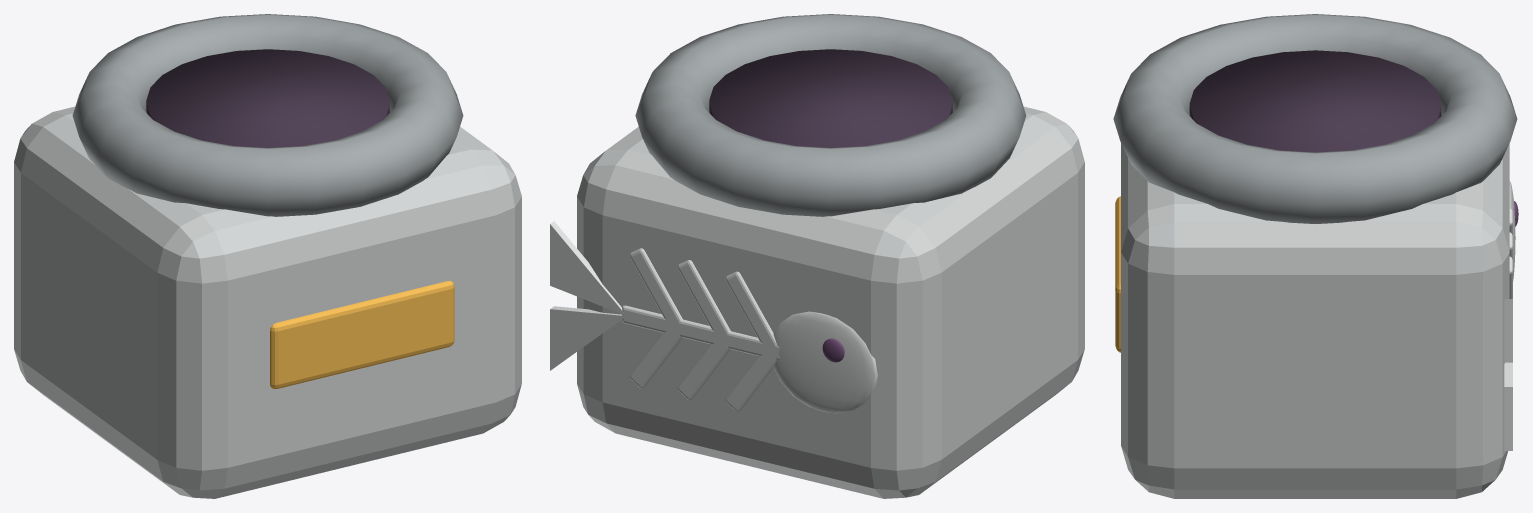
The model's file is TrashBin.fbx.
The picture shows the model from 3 angles, left to right: view 1: azimuth 30°, elevation 25°; view 2: azimuth 150°, elevation 25°; view 3: azimuth 270°, elevation 25°; orthographic projection. The views are drawn at different scales.
Visible parts, largest first — view 1: MAT_Steel Geometry.006, MAT_SteelDark Geometry.006, MAT_DeepInset Geometry.002, MAT_Ochre Geometry.001; view 2: MAT_Steel Geometry.006, MAT_SteelDark Geometry.006, MAT_Cream Geometry.001, MAT_DeepInset Geometry.002; view 3: MAT_Steel Geometry.006, MAT_SteelDark Geometry.006, MAT_DeepInset Geometry.002, MAT_Cream Geometry.001, MAT_Ochre Geometry.001.
Part boxes in pixels (x1,y1,x2,y2): MAT_Steel Geometry.006: [14, 106, 521, 498]; MAT_SteelDark Geometry.006: [72, 14, 463, 216]; MAT_DeepInset Geometry.002: [146, 49, 389, 147]; MAT_Ochre Geometry.001: [270, 281, 454, 388]; MAT_Steel Geometry.006: [577, 106, 1084, 498]; MAT_SteelDark Geometry.006: [635, 14, 1026, 216]; MAT_Cream Geometry.001: [550, 221, 877, 413]; MAT_DeepInset Geometry.002: [709, 49, 952, 147]; MAT_Steel Geometry.006: [1121, 143, 1509, 498]; MAT_SteelDark Geometry.006: [1113, 14, 1517, 223]; MAT_DeepInset Geometry.002: [1189, 50, 1441, 152]; MAT_Cream Geometry.001: [1504, 181, 1515, 450]; MAT_Ochre Geometry.001: [1115, 196, 1120, 352].
Bounding box in the file's own units: 114 × 99 × 106.
